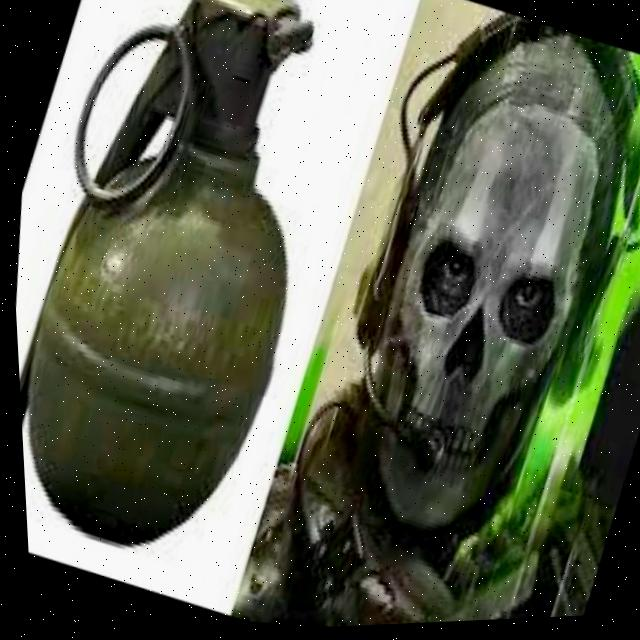grenade: (0, 0, 403, 600)
